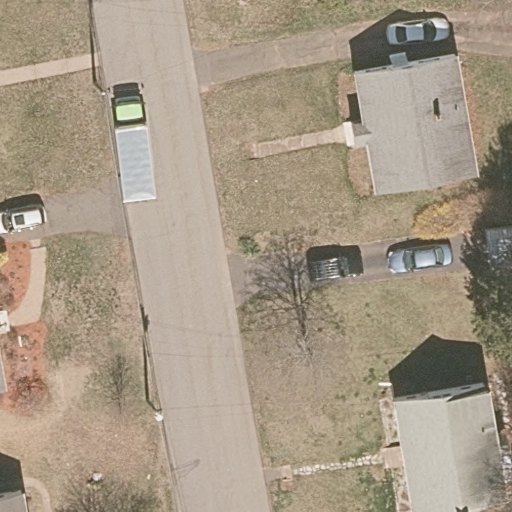DT: (142, 398, 166, 422), (90, 80, 113, 100)
